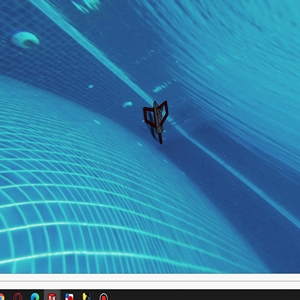submarine: (144, 99, 169, 143)
